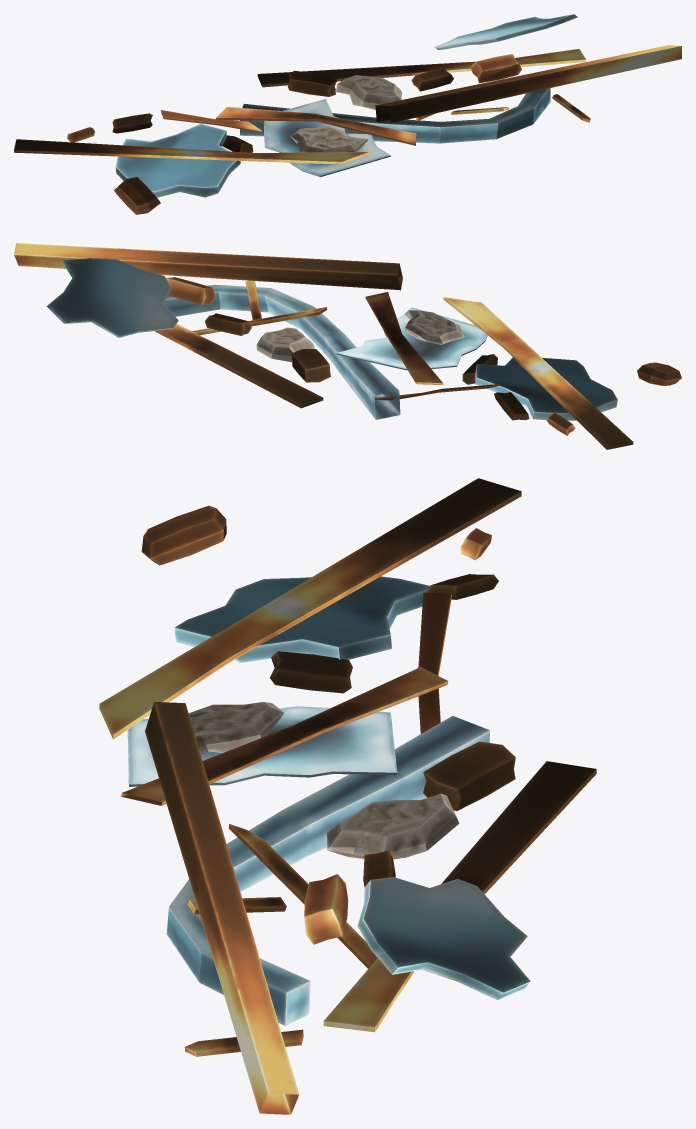
Rendered from Edificio_Ruinas_Suelo_04.FBX.
3 views of the same model, one above another, from view 1: azimuth 30°, elevation 25°; view 2: azimuth 150°, elevation 25°; view 3: azimuth 270°, elevation 25° (orthographic). The views are drawn at different scales.
Parts seen in each view (by area): view 1: Edificio_Ruinas; view 2: Edificio_Ruinas; view 3: Edificio_Ruinas.
Boxes of the visible parts, x1,y1,x2,y2 form: Edificio_Ruinas: (14,14,681,214); Edificio_Ruinas: (14,243,681,449); Edificio_Ruinas: (99,478,596,1114).
Size of the model in its own units: 35.81 by 4.13 by 12.53.
